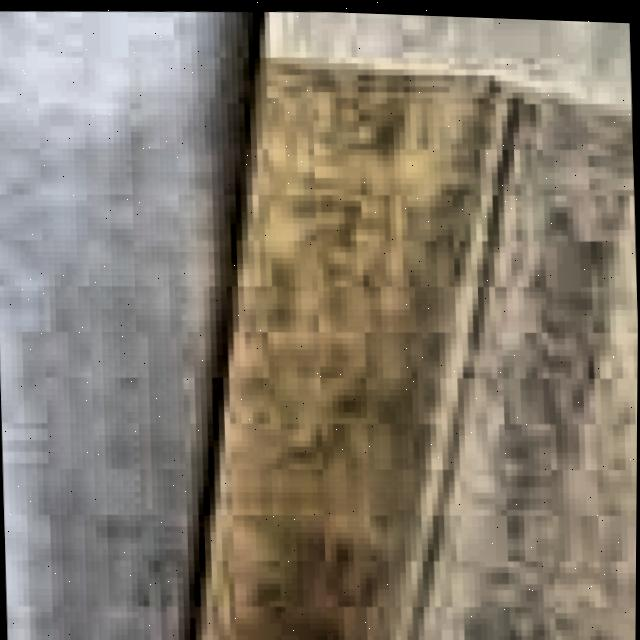paper: (192, 9, 638, 640)
